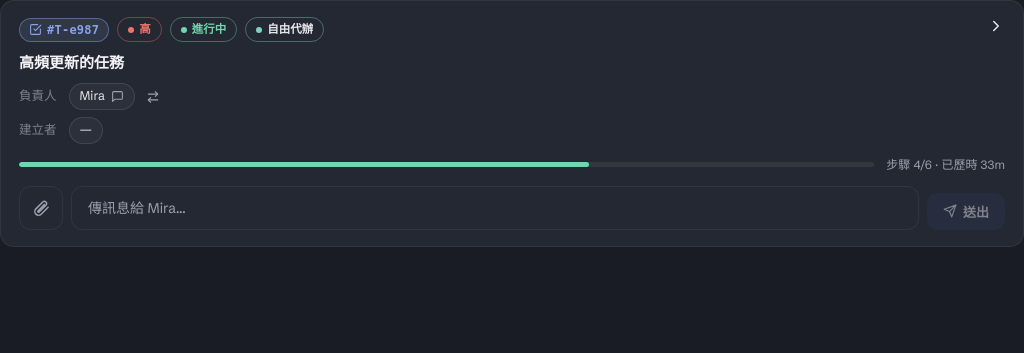
Test case: TaskCard stepless-detail (T-71e8) › shows loading (not the transitional empty state) when progress says 4/6 but the hydrate resolves stepless
Click the button with test id "task-card": (512, 232) [0,0,1023,247]
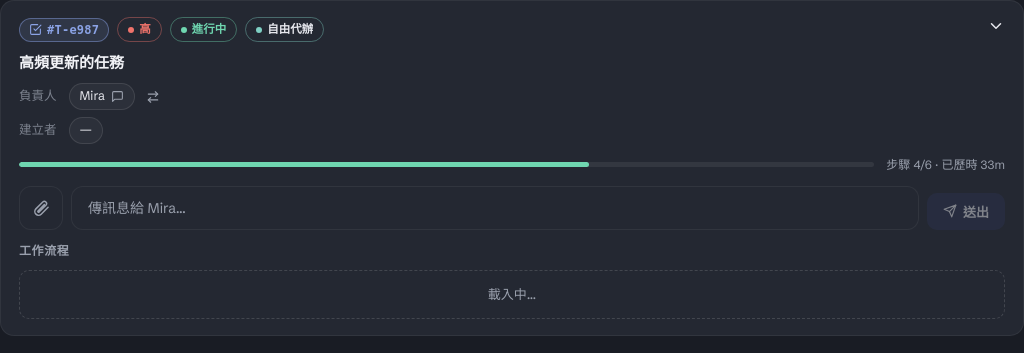
Expected: the text with test id "task-progress" shows "4/6", [886,157,932,172]
Expected: the text "載入中…" is shown, [19,270,1005,319]
